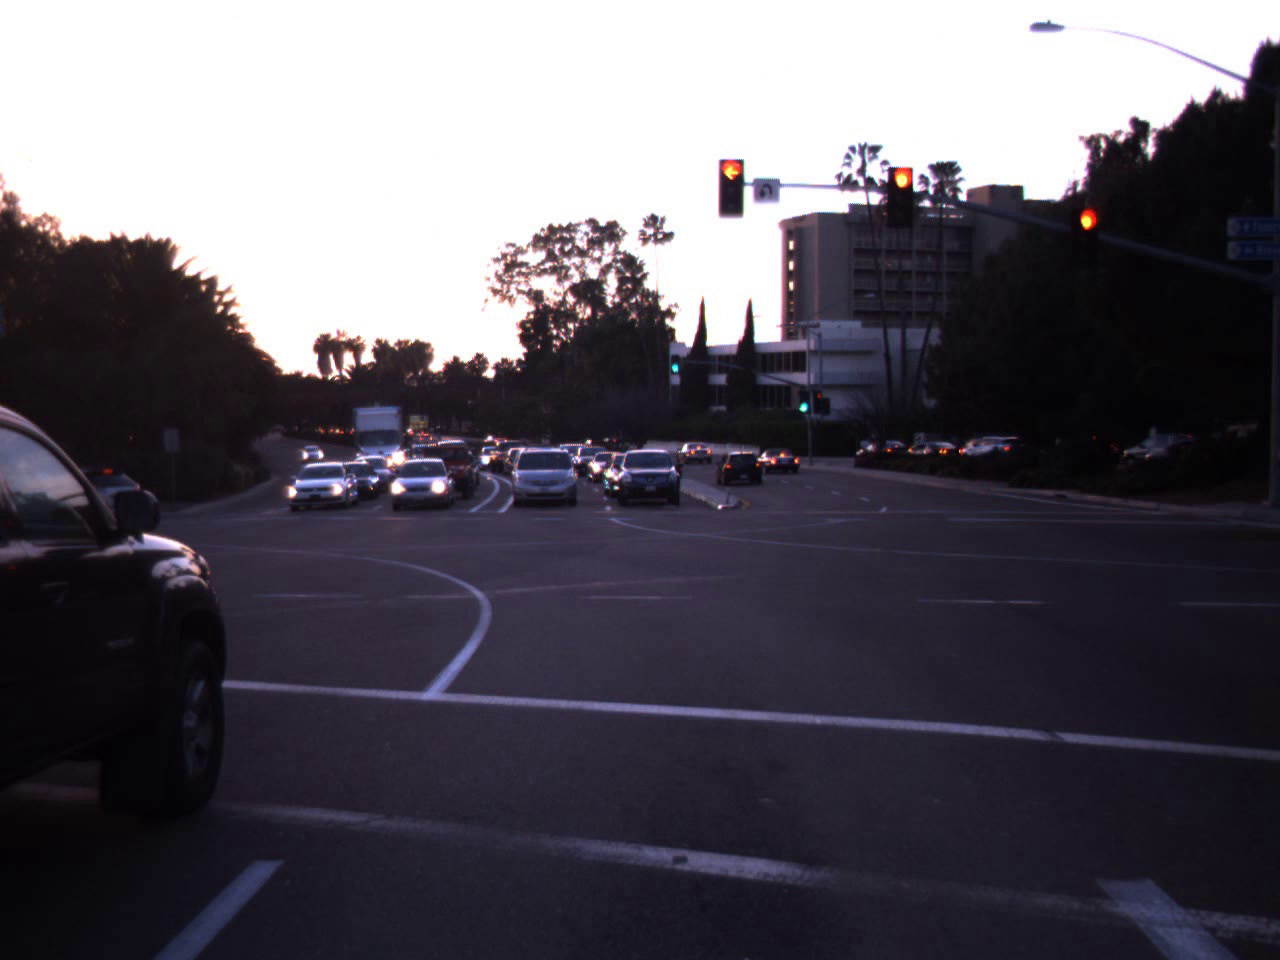go: (793, 379, 814, 414), (666, 344, 684, 374)
stop: (879, 161, 924, 237), (703, 153, 758, 216), (1066, 206, 1105, 278)
